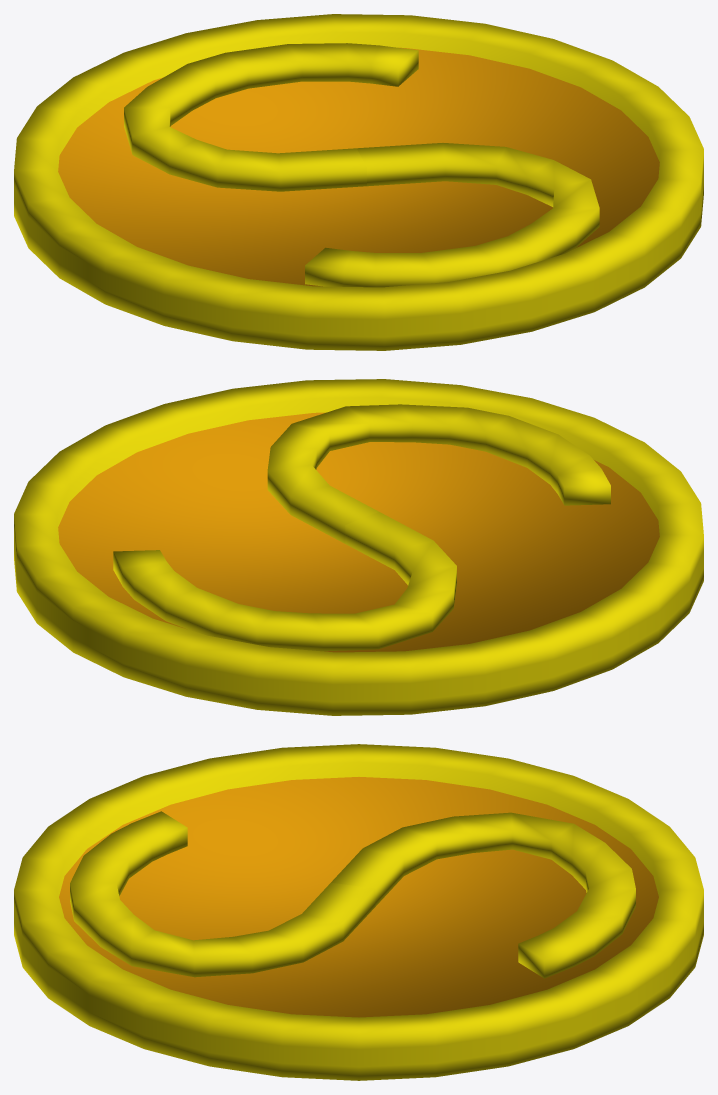
The model's file is Coin.FBX.
3 renders of one model, top to bottom at view 1: azimuth 30°, elevation 25°; view 2: azimuth 150°, elevation 25°; view 3: azimuth 270°, elevation 25°, orthographic.
Visible parts, largest first — view 1: Coin; view 2: Coin; view 3: Coin.
Boxes of the visible parts, x1,y1,x2,y2 form: Coin: (14, 14, 703, 350); Coin: (14, 379, 703, 715); Coin: (14, 744, 703, 1080).
Bounding box in the file's own units: 3600 × 309 × 3600.
